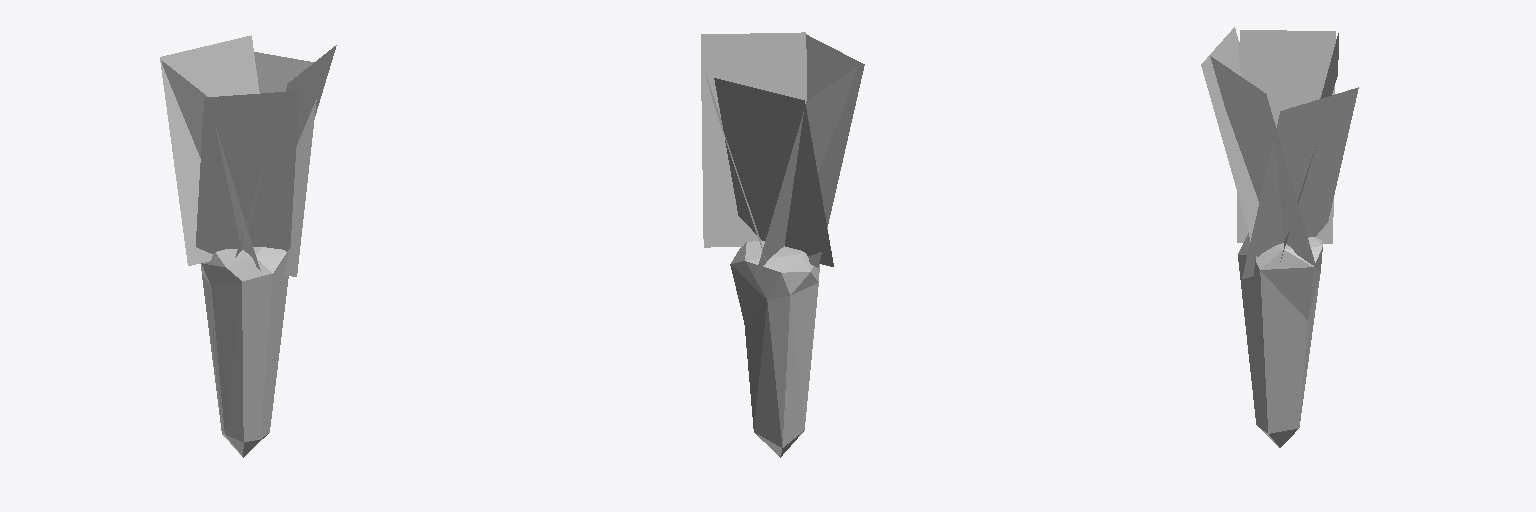
File: Carrot.obj
3 renders of one model, left to right at view 1: azimuth 30°, elevation 25°; view 2: azimuth 150°, elevation 25°; view 3: azimuth 270°, elevation 25°, orthographic.
Parts seen in each view (by area): view 1: Plane.006, Cube, Plane.005, Plane.012, Plane.007, Plane.004; view 2: Cube, Plane.005, Plane.004, Plane.006, Plane.007; view 3: Cube, Plane.012, Plane.007, Plane.004, Plane.006, Plane.005.
Part boxes in pixels (x1,y1,x2,y2): Plane.006: (196, 91, 299, 253); Cube: (201, 247, 288, 457); Plane.005: (160, 35, 259, 265); Plane.012: (254, 52, 316, 276); Plane.007: (161, 60, 260, 270); Plane.004: (235, 45, 336, 257); Cube: (730, 241, 819, 457); Plane.005: (714, 78, 833, 266); Plane.004: (701, 32, 806, 247); Plane.006: (806, 34, 864, 267); Plane.007: (756, 66, 857, 273); Cube: (1238, 233, 1322, 447); Plane.012: (1242, 87, 1358, 278); Plane.007: (1237, 30, 1335, 243); Plane.004: (1210, 56, 1315, 266); Plane.006: (1201, 27, 1258, 260); Plane.005: (1280, 33, 1338, 261).
Bounding box in the file's own units: 0.2045 × 0.523 × 0.1884.